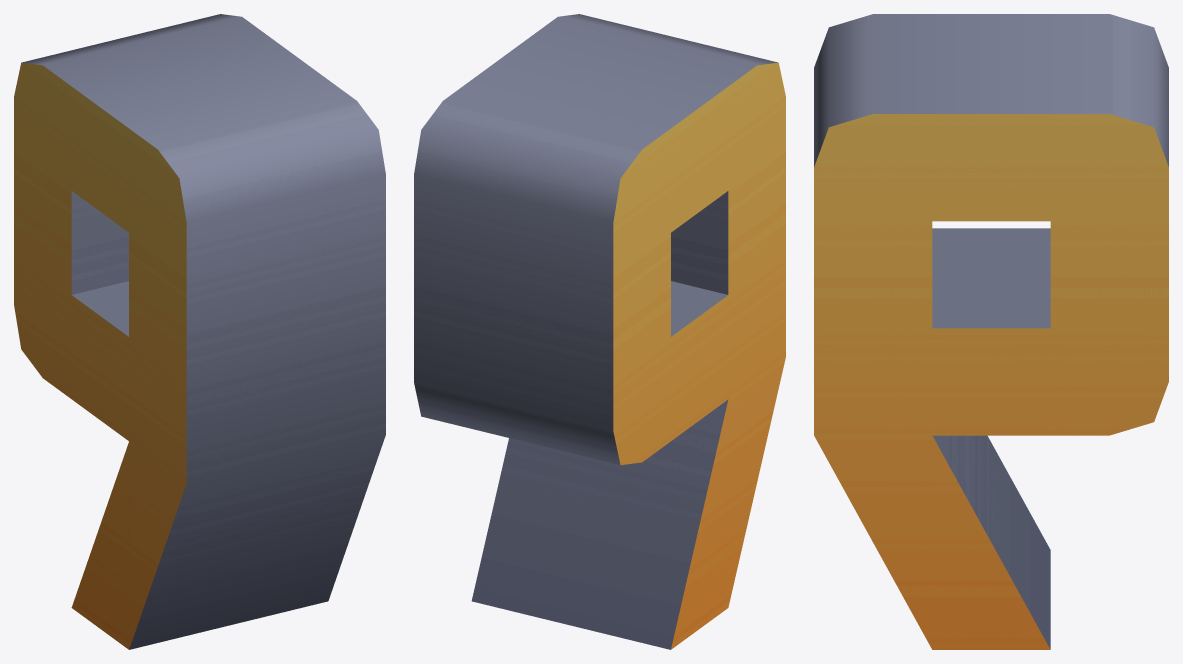
Rendered from number-9.glb.
The picture shows the model from 3 angles, left to right: view 1: azimuth 30°, elevation 25°; view 2: azimuth 150°, elevation 25°; view 3: azimuth 270°, elevation 25°; orthographic projection. The views are drawn at different scales.
Visible parts, largest first — view 1: number-9; view 2: number-9; view 3: number-9.
Part boxes in pixels (box(x1,y1,x2,y2)): number-9: box(14, 14, 385, 649); number-9: box(414, 14, 785, 649); number-9: box(814, 14, 1168, 649).
Bounding box in the file's own units: 0.2 × 0.5 × 0.3.
Materials: 1 (1 with a texture image).
